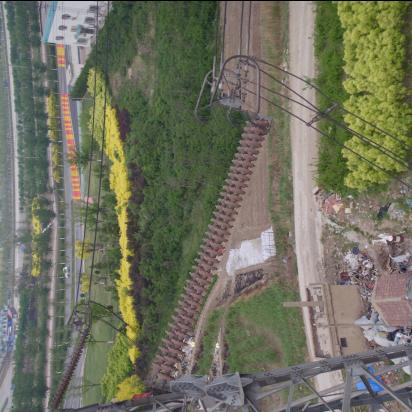insulator: (162, 104, 258, 398), (52, 326, 88, 412)
